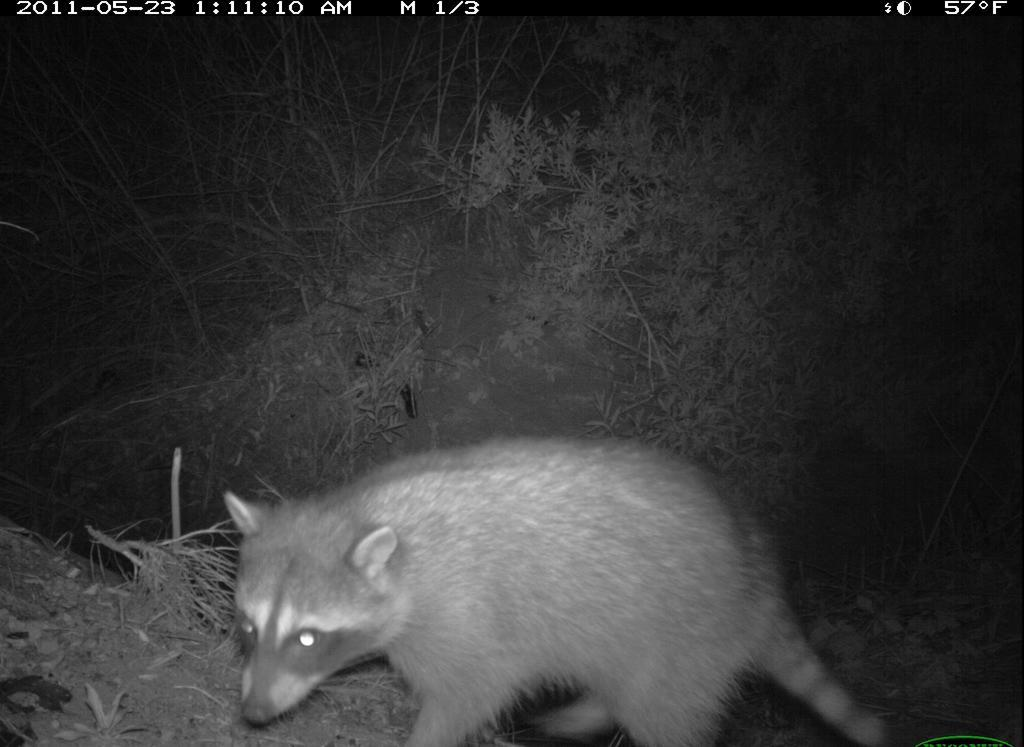raccoon: (198, 428, 912, 747)
